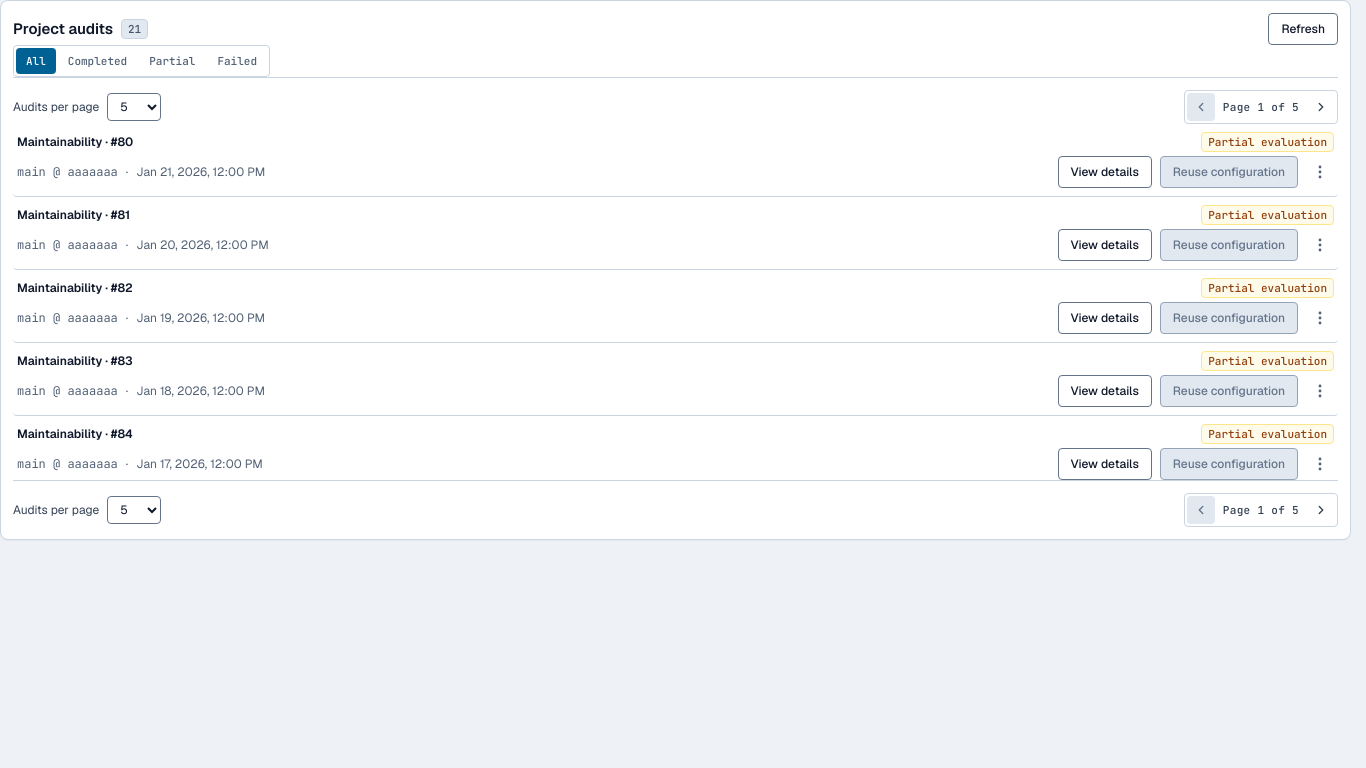
Test: project quality audits › orders history newest first and starts with five records per page
Check: the number of dropdowns labelled "Audits per page" is 2, box [107,93,161,121]; [107,496,161,524]
Check: the 1st dropdown labelled "Audits per page" shows "5", box [107,93,161,121]
Click the 1st button named "Next page" at [1321, 107], box [1307,93,1335,121]
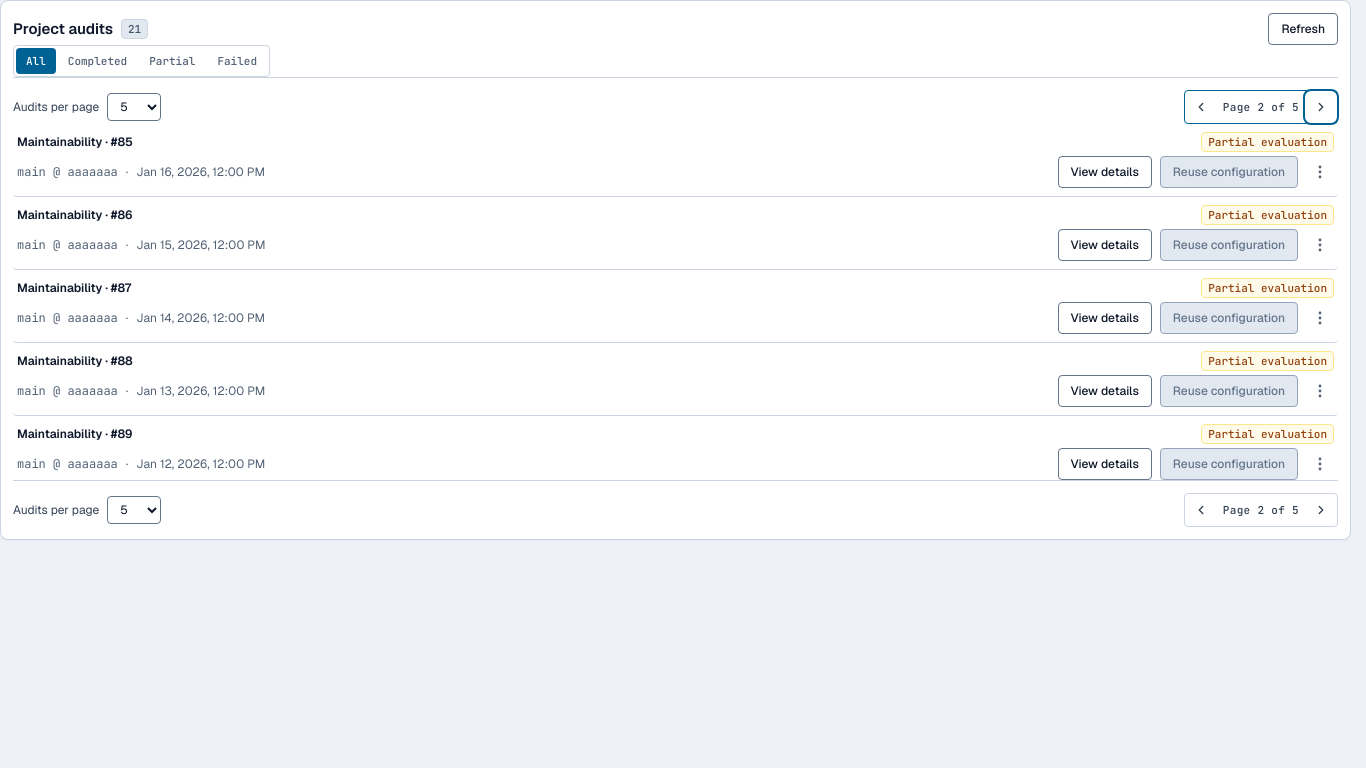
Check: the text "Page 2 of 5" is shown 2 times, box [1223,99,1299,115]; [1223,502,1299,518]
Check: the heading "Maintainability · #85" is shown, box [17,134,133,150]
Click the 2nd button named "Previous page" at [1201, 510], box [1187,496,1215,524]
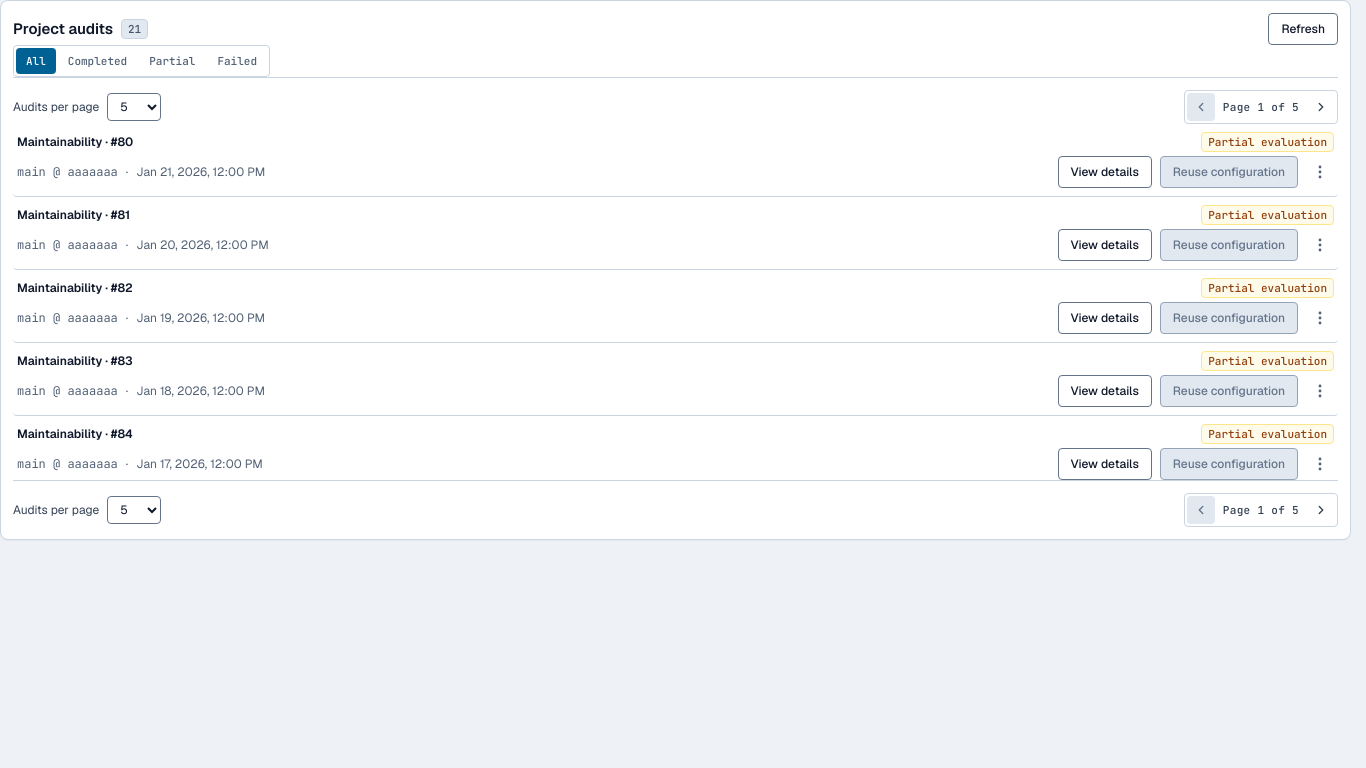
Check: the heading "Maintainability · #80" is shown, box [17,134,133,150]
